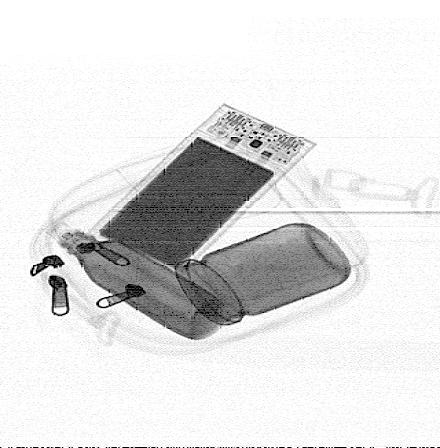Powerbank: (84, 103, 320, 275)
